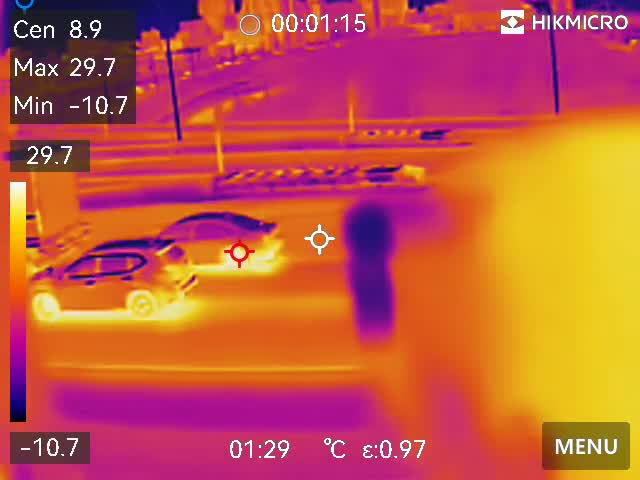largeCar: (22, 246, 199, 307)
smallCar: (157, 210, 290, 267)
